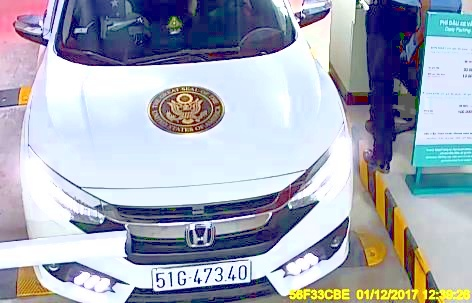plate: (146, 261, 256, 289)
